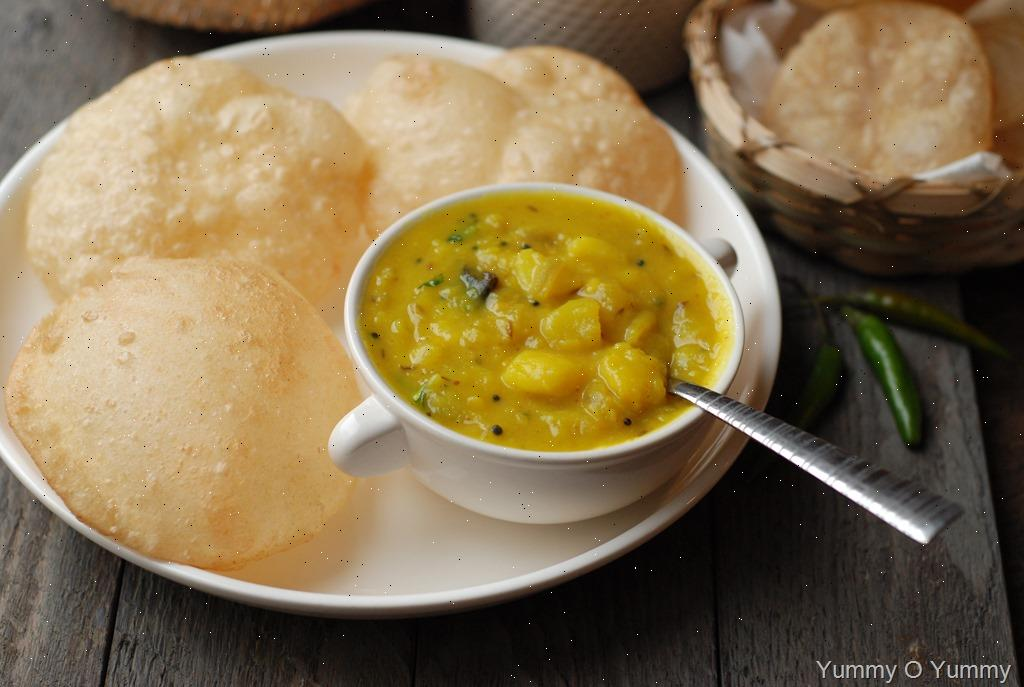puri: (15, 53, 333, 555), (342, 45, 1024, 198)
